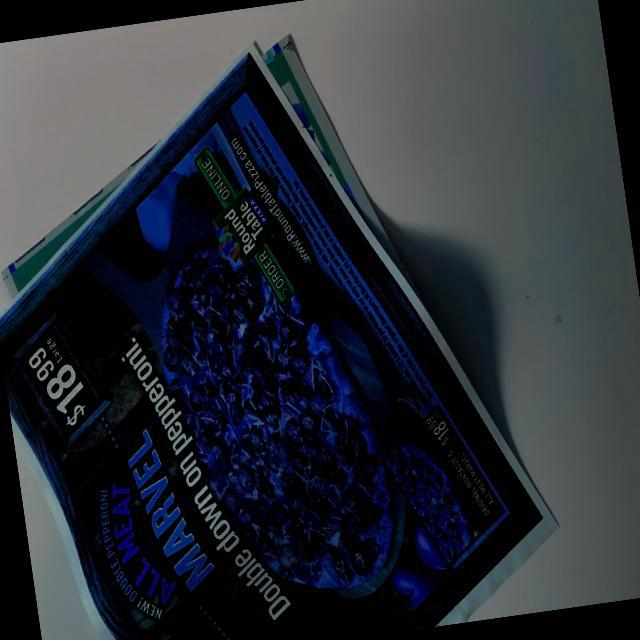paper: (0, 4, 567, 640)
